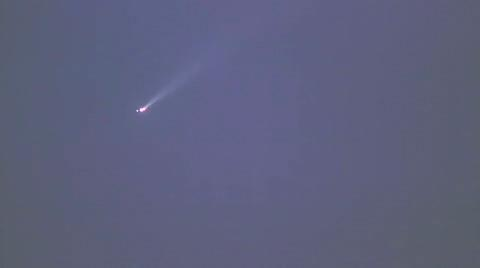Plane: (117, 69, 202, 122)
